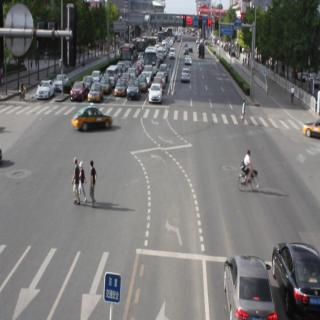Car: (264, 238, 320, 318), (221, 249, 281, 320), (70, 105, 118, 136), (140, 44, 161, 74), (32, 79, 56, 105), (68, 76, 85, 105), (146, 78, 163, 105), (86, 80, 102, 105), (175, 65, 193, 86), (127, 77, 140, 101), (115, 78, 127, 102), (53, 76, 68, 92)
